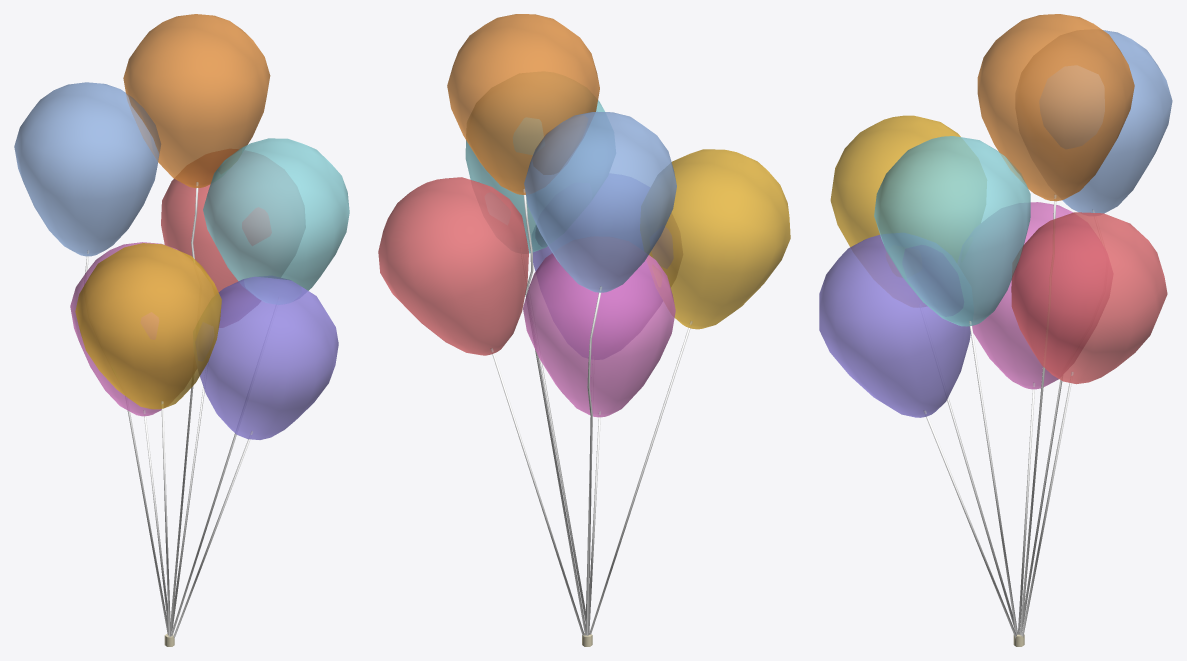
The model's file is Balloons1.fbx.
The picture shows the model from 3 angles, left to right: view 1: azimuth 30°, elevation 25°; view 2: azimuth 150°, elevation 25°; view 3: azimuth 270°, elevation 25°; orthographic projection. The views are drawn at different scales.
Parts seen in each view (by area): view 1: Sphere.064; view 2: Sphere.064; view 3: Sphere.064.
Part boxes in pixels (x1,y1,x2,y2): Sphere.064: (14,14,349,646); Sphere.064: (378,14,790,646); Sphere.064: (819,14,1172,646).
Size of the model in its own units: 71.34 by 140 by 69.
